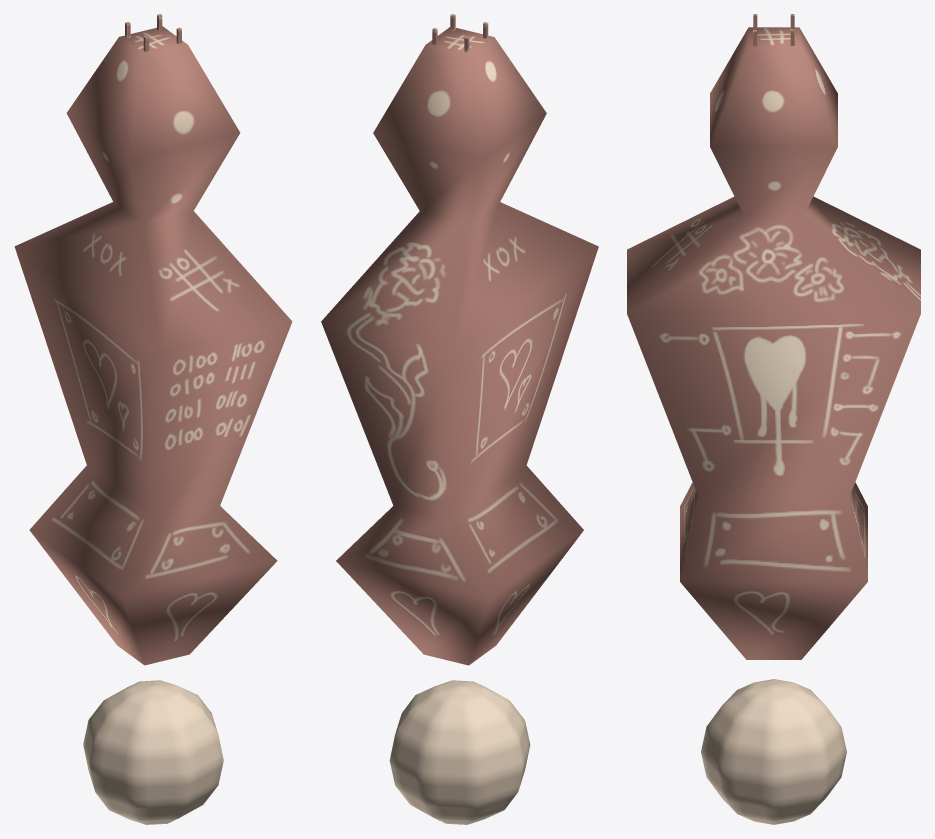
The model's file is good_bot2.0.gltf.
The picture shows the model from 3 angles, left to right: view 1: azimuth 30°, elevation 25°; view 2: azimuth 150°, elevation 25°; view 3: azimuth 270°, elevation 25°; orthographic projection.
Visible parts, largest first — view 1: Cube, Cube.001; view 2: Cube, Cube.001; view 3: Cube, Cube.001.
Part boxes in pixels (x1,y1,x2,y2): Cube: (14,26,292,665); Cube.001: (83,680,223,824); Cube: (321,27,598,665); Cube.001: (389,680,530,824); Cube: (627,27,920,659); Cube.001: (701,679,846,824).
Size of the model in its own units: 0.8038 by 3.94 by 1.32.
Materials: 1 (1 with a texture image).
